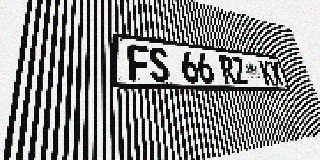6: (179, 50, 200, 83), (195, 52, 215, 83)
F: (127, 44, 151, 82)
K: (259, 60, 276, 85)
R: (218, 55, 238, 84)
S: (148, 47, 171, 82)
X: (268, 61, 284, 85)
Z: (231, 57, 249, 84)
